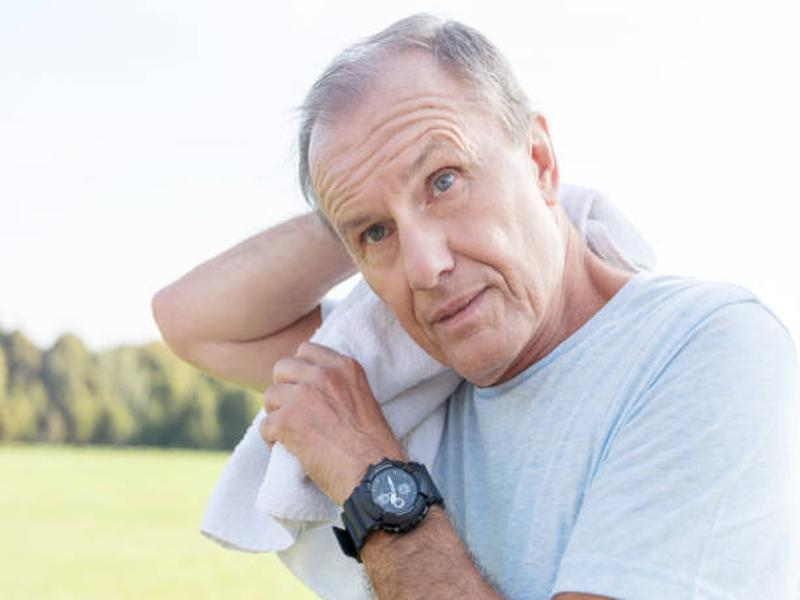watch: (334, 457, 447, 563)
